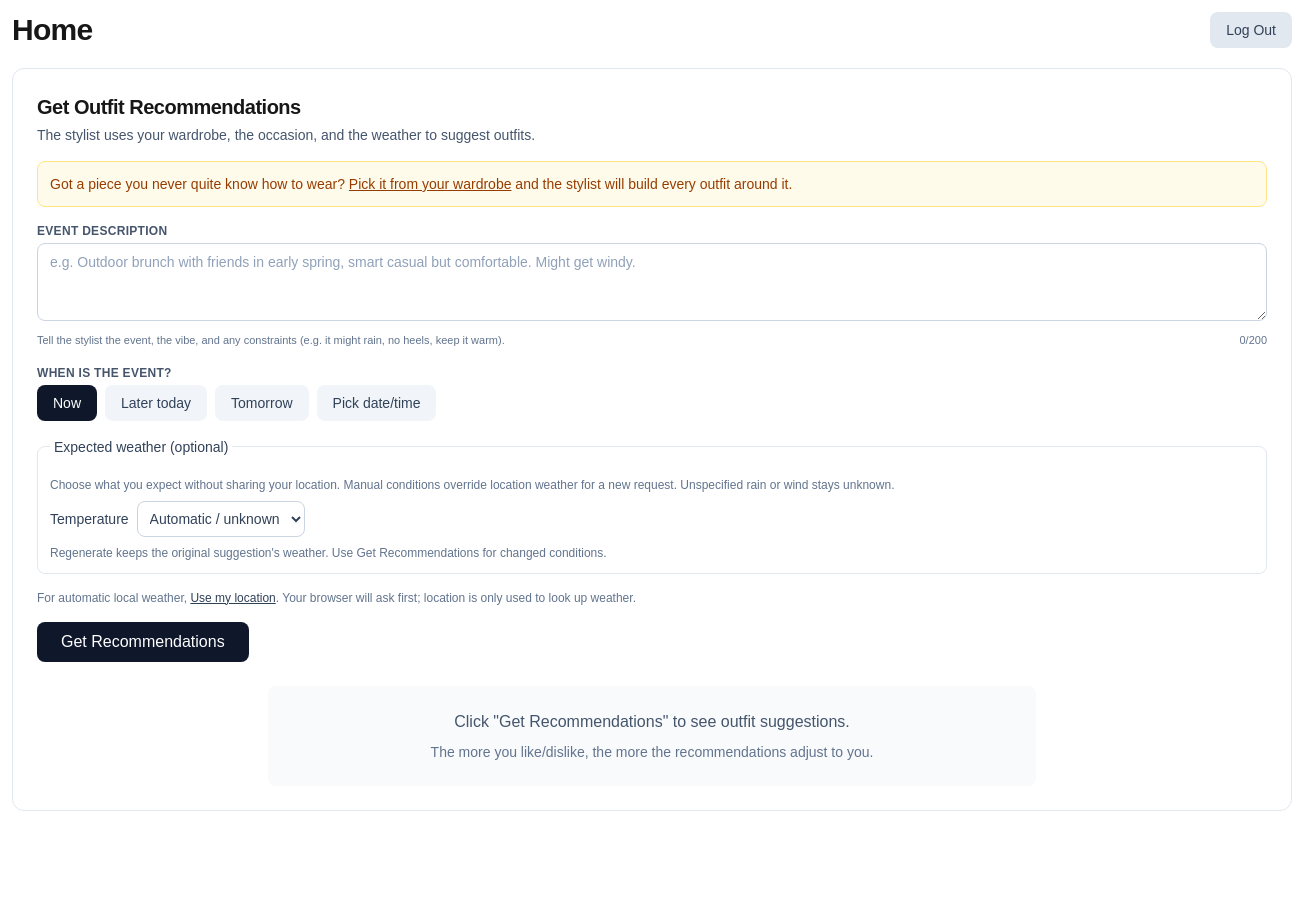
Test case: dashboard — location is primed, not sprung (#5) › asks the browser only when the friend taps, and reports the grant
The image size is (1304, 912).
Click the button "Use my location".
click(233, 598)  # box [190,590,276,606]
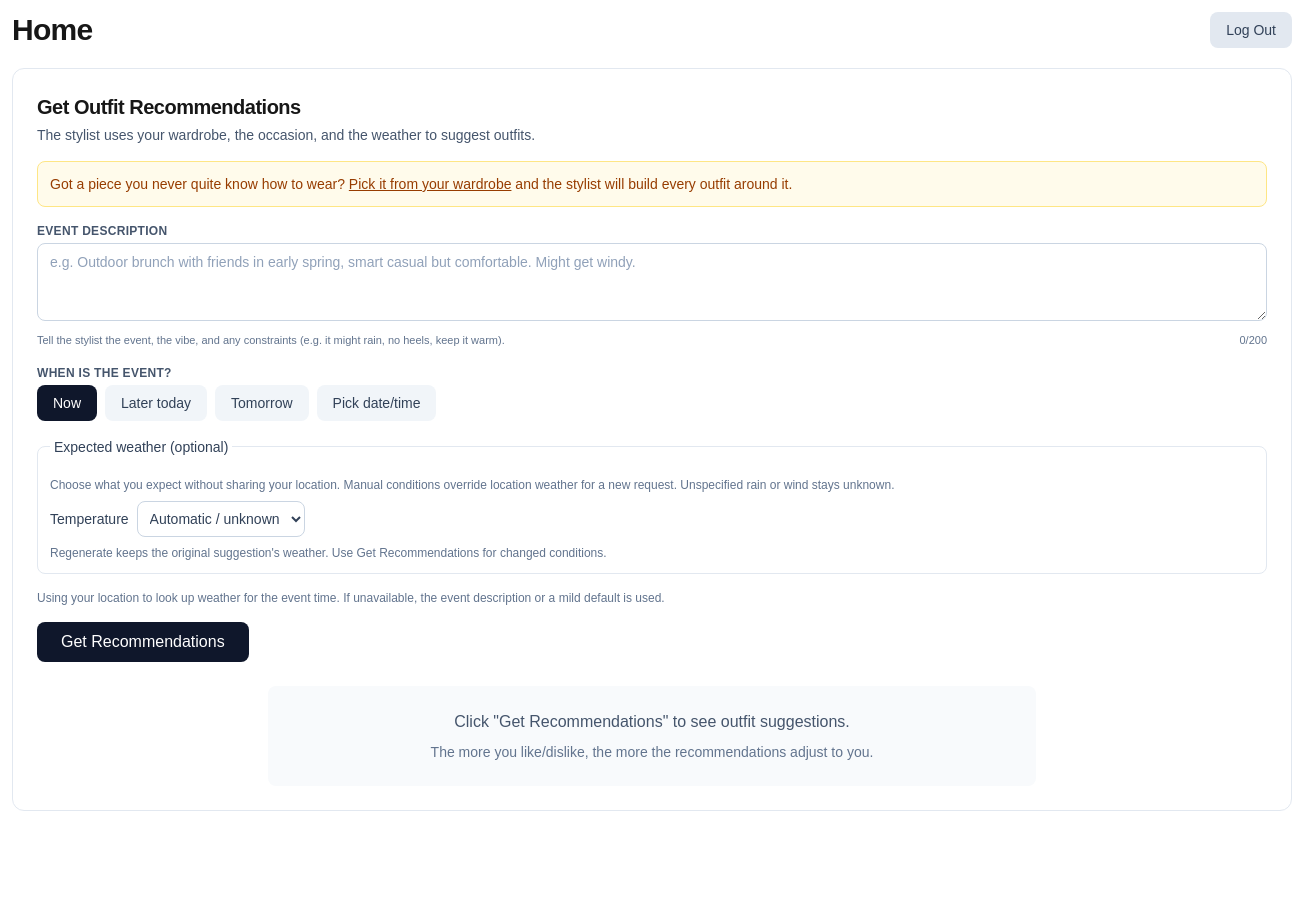
Expected: the text "Using your location to look up weather" is shown, [37,590,665,604]
